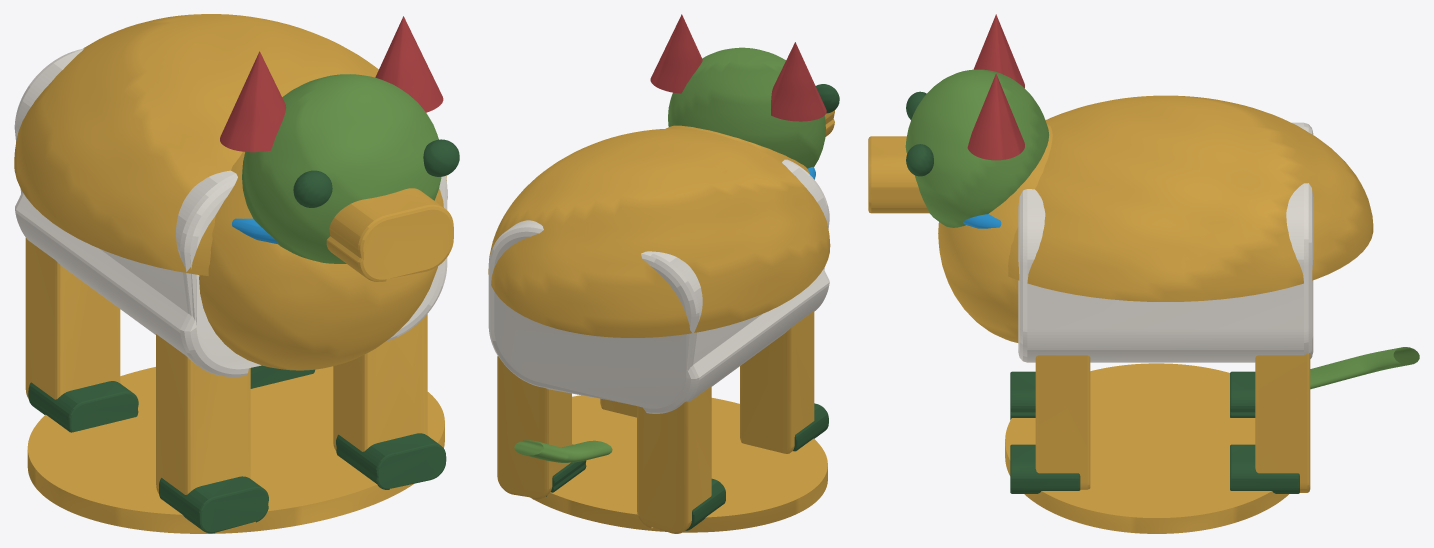
File: 0158_恐龙图鉴_慈母龙.glb
The picture shows the model from 3 angles, left to right: view 1: azimuth 30°, elevation 25°; view 2: azimuth 150°, elevation 25°; view 3: azimuth 270°, elevation 25°; orthographic projection. The views are drawn at different scales.
Visible parts, largest first — view 1: card_0158; view 2: card_0158; view 3: card_0158.
Boxes of the visible parts, x1=… form: card_0158: x1=14, y1=14, x2=459, y2=533; card_0158: x1=488, y1=14, x2=839, y2=533; card_0158: x1=868, y1=14, x2=1419, y2=533.
Size of the model in its own units: 0.8036 by 1 by 1.21.
